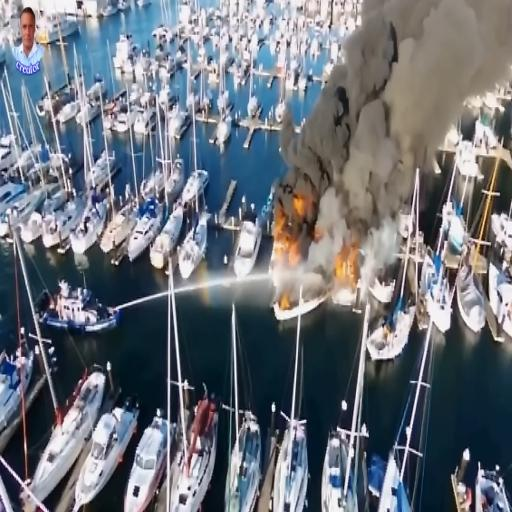fire: (274, 219, 300, 264), (336, 244, 358, 282)
smoke: (361, 0, 426, 142), (297, 106, 356, 194)
